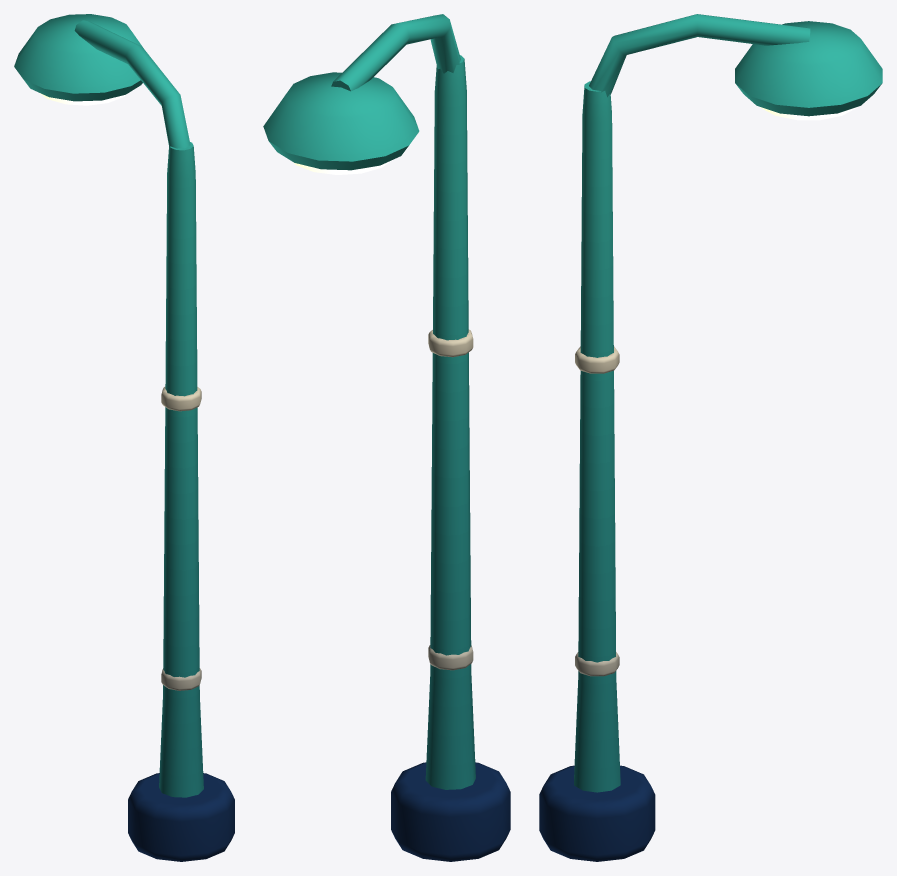
File: streetlight.glb
The picture shows the model from 3 angles, left to right: view 1: azimuth 30°, elevation 25°; view 2: azimuth 150°, elevation 25°; view 3: azimuth 270°, elevation 25°; orthographic projection. The views are drawn at different scales.
Visible parts, largest first — view 1: streetlight Teal, streetlight Kestrel navy, streetlight Cream; view 2: streetlight Teal, streetlight Kestrel navy, streetlight Cream; view 3: streetlight Teal, streetlight Kestrel navy, streetlight Cream.
Boxes of the visible parts, x1,y1,x2,y2 form: streetlight Teal: [14, 14, 203, 797]; streetlight Kestrel navy: [128, 773, 234, 861]; streetlight Cream: [161, 387, 201, 690]; streetlight Teal: [263, 14, 475, 789]; streetlight Kestrel navy: [391, 762, 510, 861]; streetlight Cream: [428, 329, 473, 670]; streetlight Teal: [574, 14, 882, 792]; streetlight Kestrel navy: [539, 765, 655, 861]; streetlight Cream: [575, 346, 619, 676].
Bounding box in the file's own units: 0.68 × 4.1 × 1.54.
5 materials, 4 textured.
